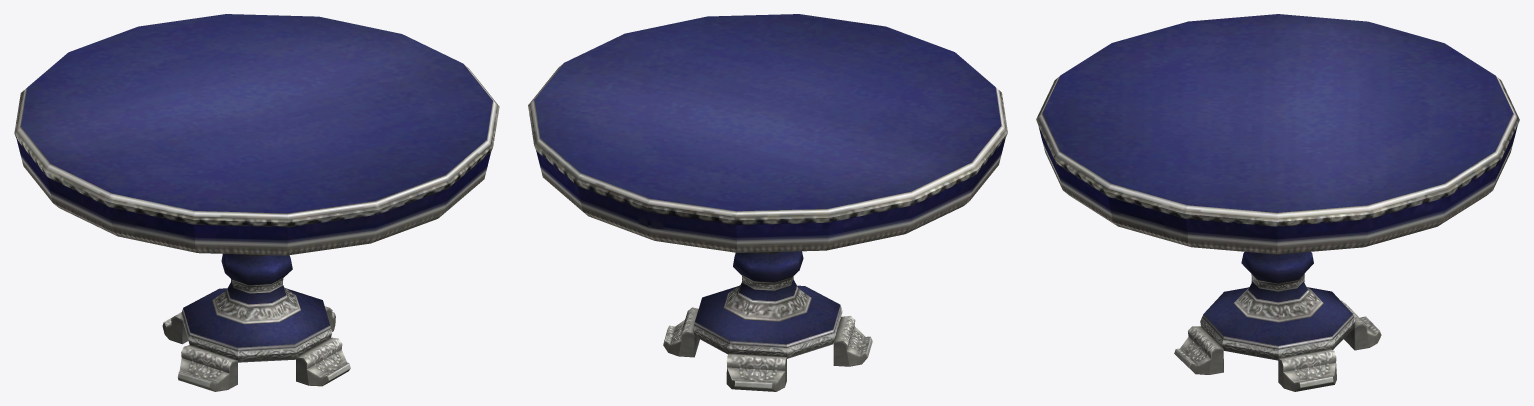
Rendered from furni_0201106.FBX.
3 renders of one model, left to right at view 1: azimuth 30°, elevation 25°; view 2: azimuth 150°, elevation 25°; view 3: azimuth 270°, elevation 25°, orthographic.
Parts seen in each view (by area): view 1: furni_0201106; view 2: furni_0201106; view 3: furni_0201106.
Part boxes in pixels (x1,y1,x2,y2): furni_0201106: (14,14,499,391); furni_0201106: (528,14,1007,391); furni_0201106: (1036,14,1519,391).
Bounding box in the file's own units: 147 × 79.23 × 147.
Materials: 1 (1 with a texture image).
